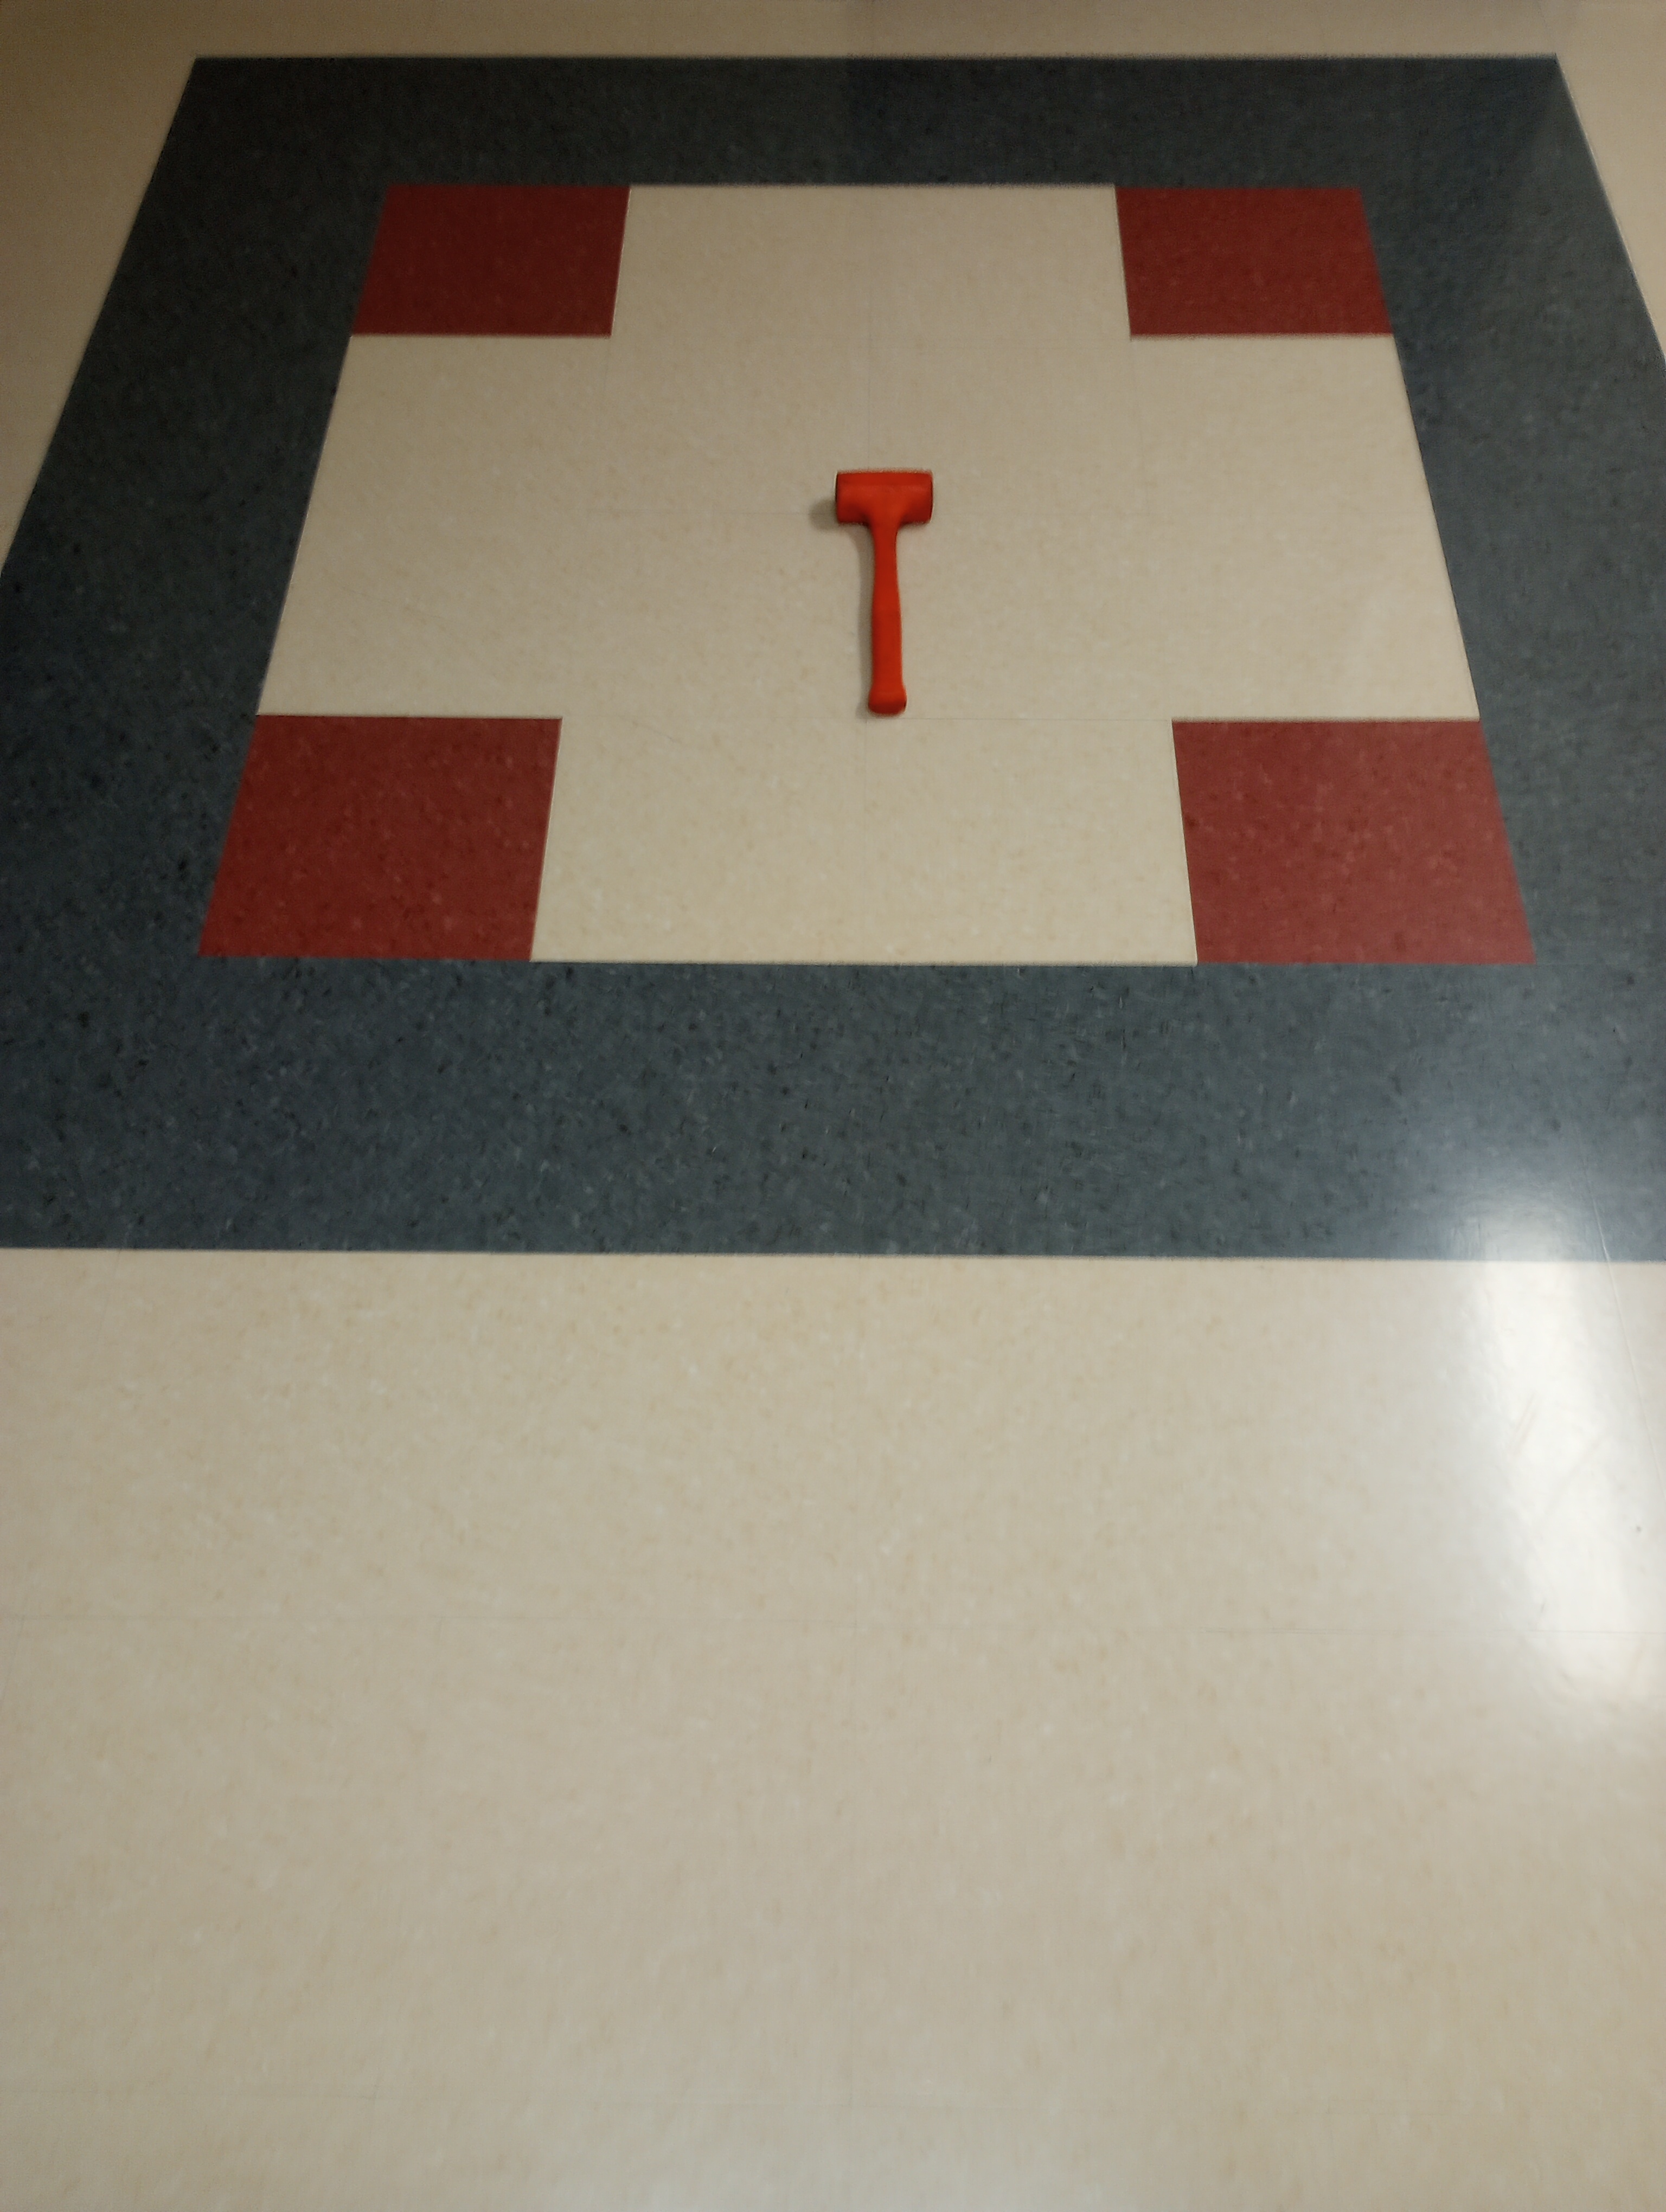bottle: (830, 458, 938, 727)
